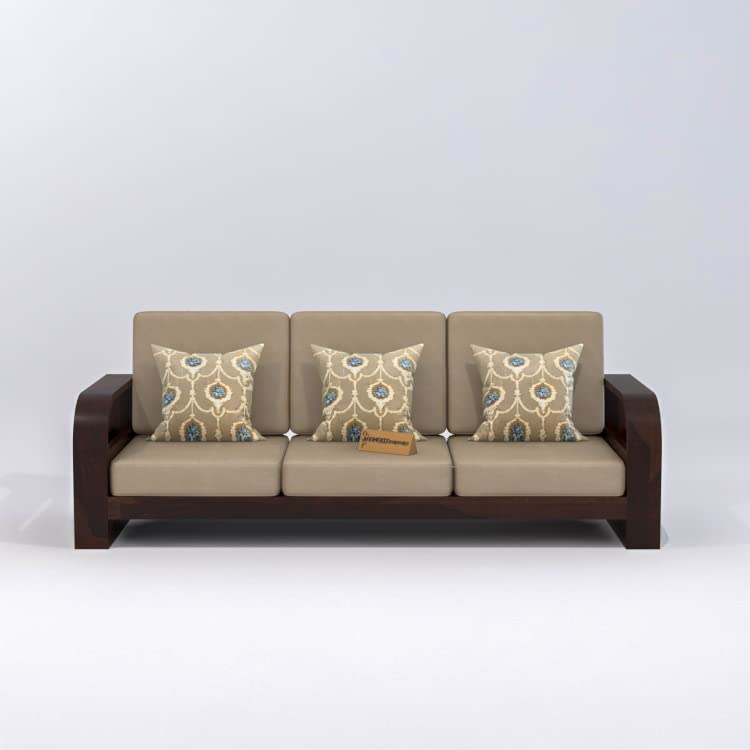3seatersofa: (73, 312, 661, 548)
backrest: (131, 312, 605, 436)
base: (108, 496, 629, 520)
leftarmrest: (603, 375, 661, 548)
pillow: (310, 344, 425, 443), (471, 344, 586, 442), (150, 344, 264, 439)
rightarmrest: (74, 374, 131, 548)
seat: (110, 436, 625, 496)
